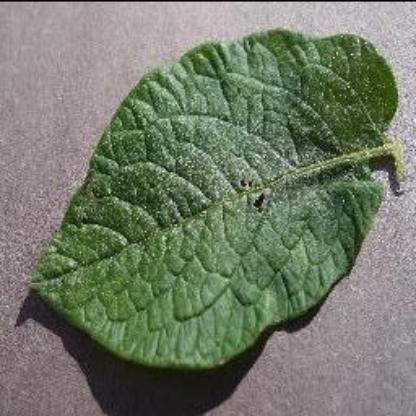Healthy-plant: (23, 22, 404, 376)
